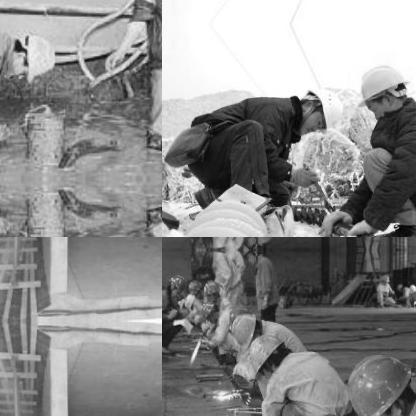Helmet: (341, 348, 415, 415), (350, 56, 412, 118), (240, 327, 298, 384), (4, 27, 62, 82), (296, 82, 342, 136), (226, 310, 260, 350), (164, 274, 186, 302), (199, 278, 220, 302), (198, 299, 218, 323), (187, 277, 203, 297)
